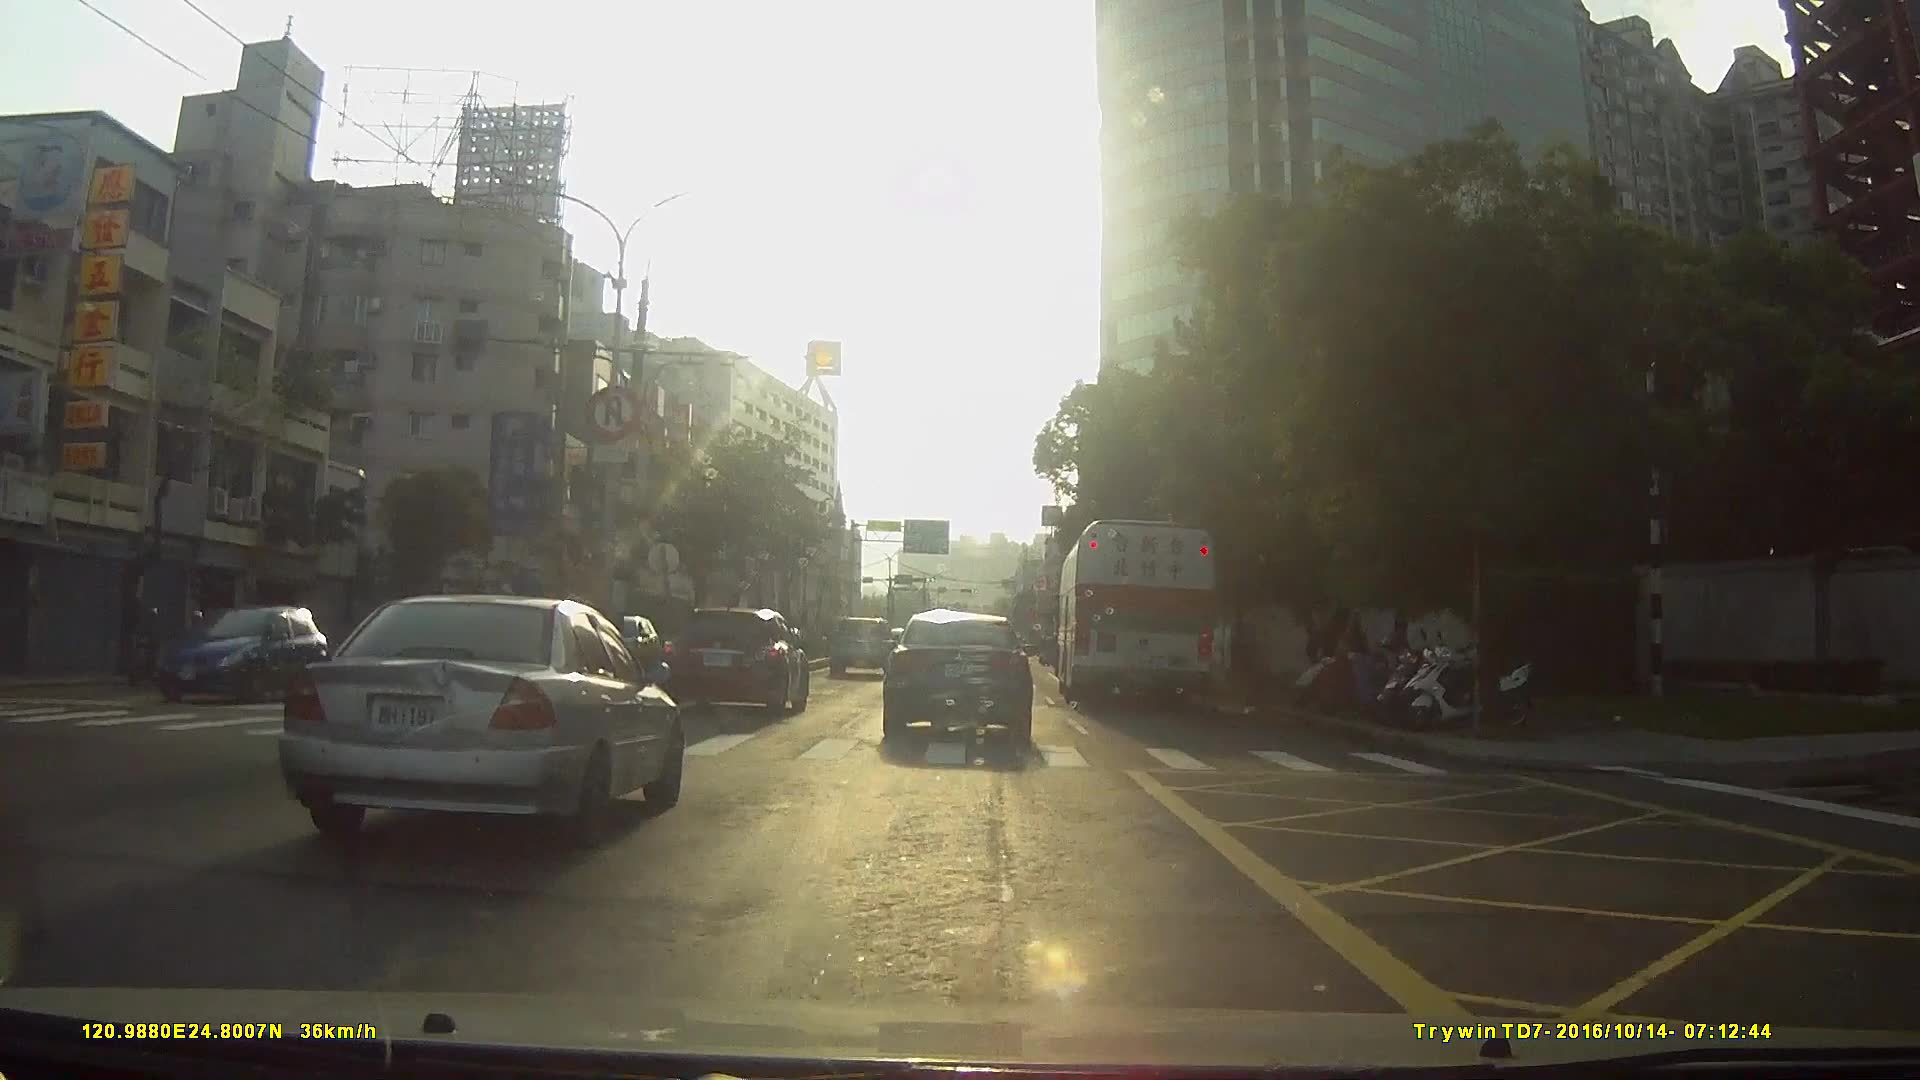rider: (129, 605, 174, 683)
vehicle: (271, 590, 682, 845), (1056, 512, 1220, 713), (152, 598, 340, 716), (882, 607, 1035, 745), (663, 604, 812, 720), (827, 614, 897, 677)
